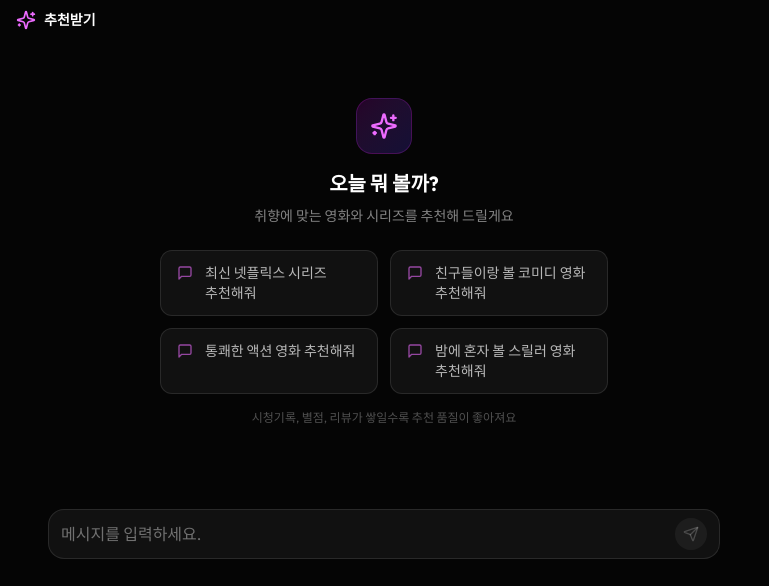
Test case: ChatSection › 사용자 메시지가 낙관적으로 화면에 표시된다
This screenshot has width=769, height=586.
Type "테스트 메시지" into the text box with placeholder "메시지를 입력하세요." at [364, 534], box [61, 518, 667, 550]
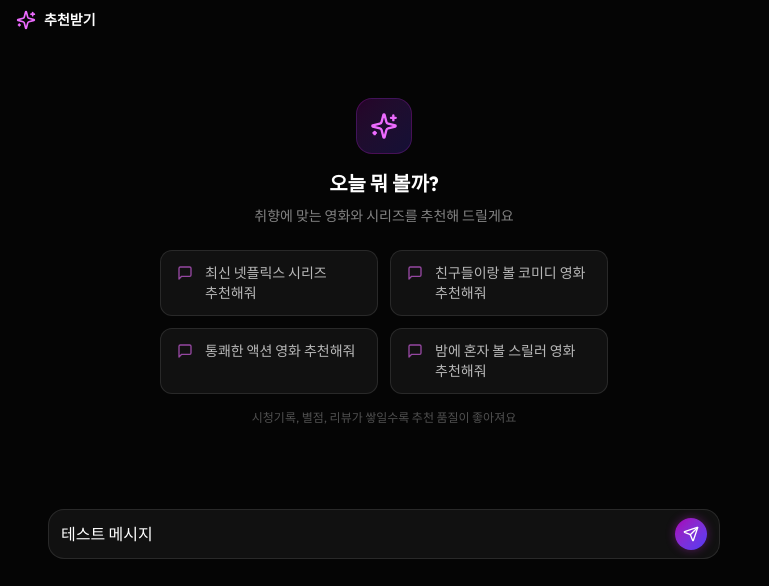
Press Enter in the text box with placeholder "메시지를 입력하세요.", box [61, 518, 667, 550]
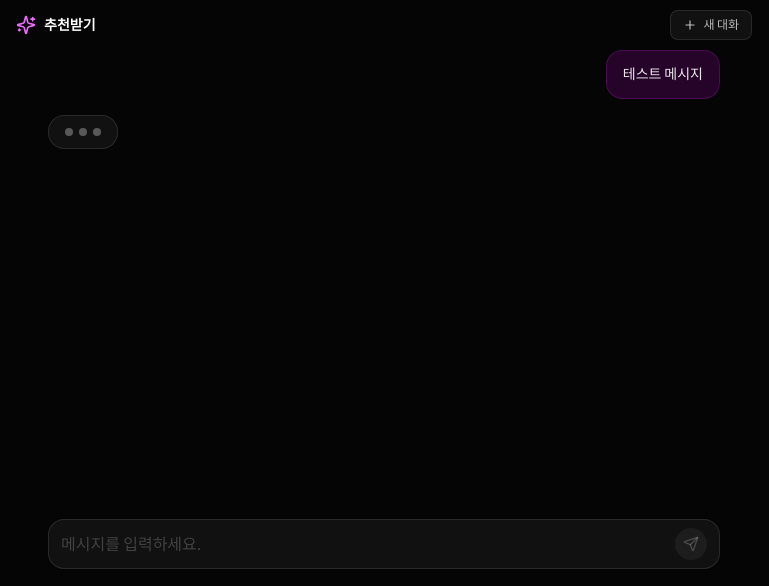
expect the text "테스트 메시지" is shown: met, box [623, 63, 703, 86]
